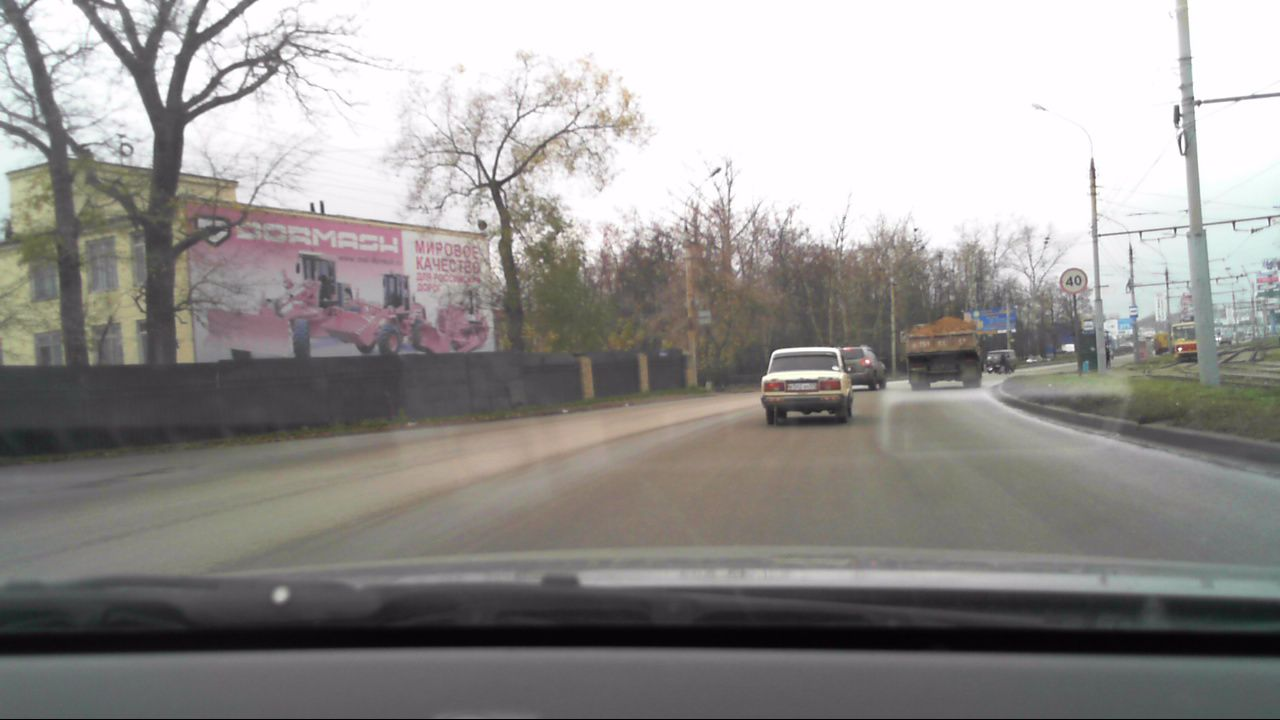speed_warning_40: (1058, 267, 1084, 292)
